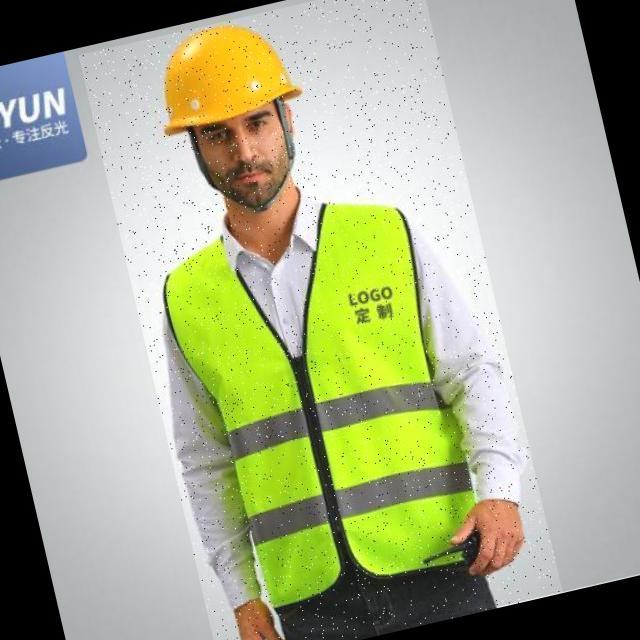Helmet: (144, 12, 309, 143)
Person: (128, 13, 532, 640)
Safety Vest: (156, 181, 493, 617)
